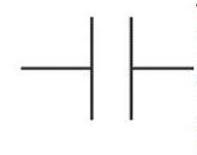Capacitor: (58, 4, 148, 132)
